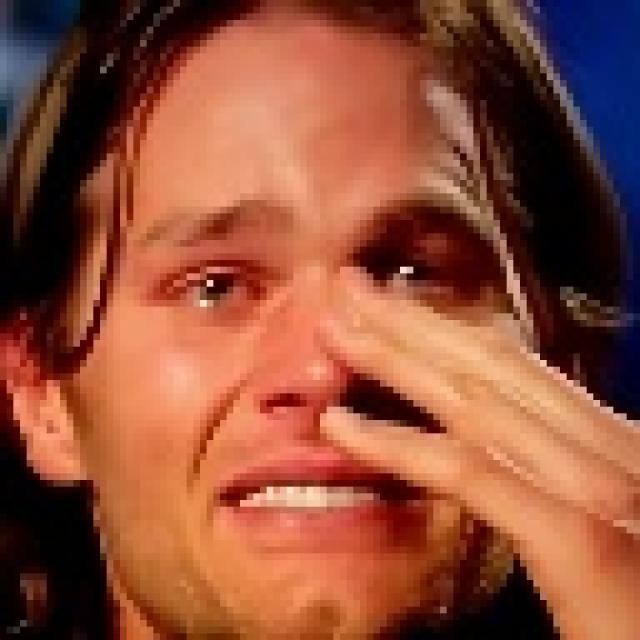sad: (72, 36, 528, 640)
